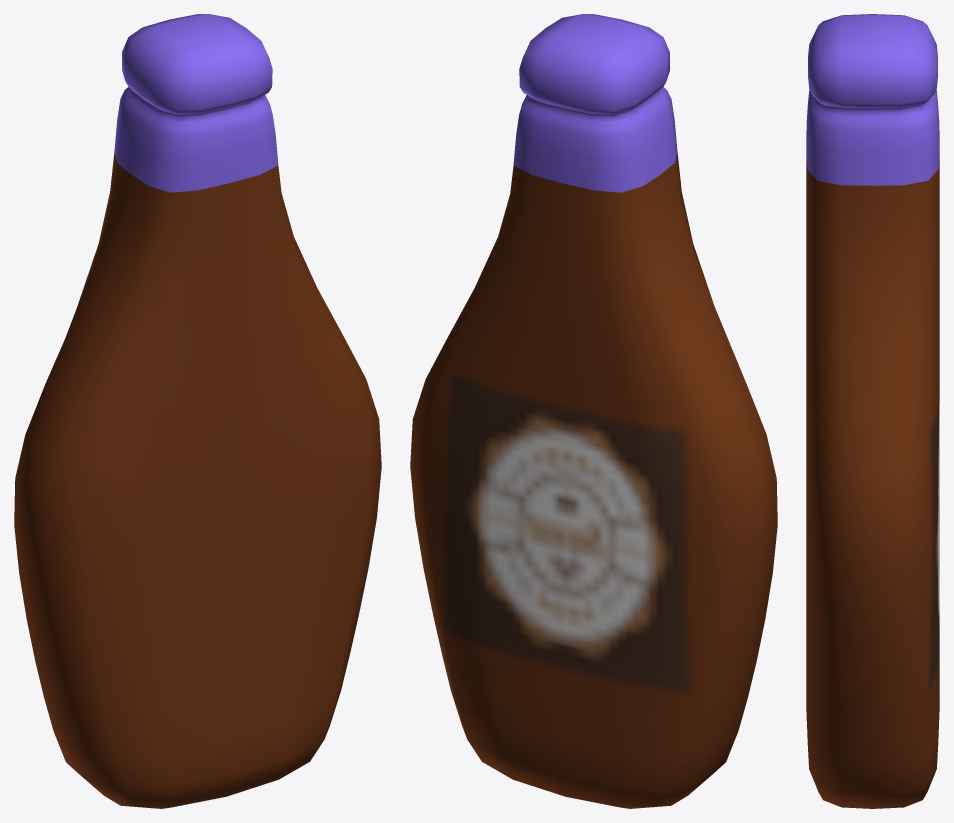
File: AL_Cajeta.fbx
3 views of the same model, side by side, from view 1: azimuth 30°, elevation 25°; view 2: azimuth 150°, elevation 25°; view 3: azimuth 270°, elevation 25° (orthographic).
Visible parts, largest first — view 1: Plane; view 2: Plane; view 3: Plane.
Boxes of the visible parts, left/top/right/bottom form: Plane: left=14, top=14, right=381, bottom=808; Plane: left=410, top=14, right=777, bottom=808; Plane: left=806, top=14, right=939, bottom=808.
Bounding box in the file's own units: 0.0647 × 0.4036 × 0.1907.
